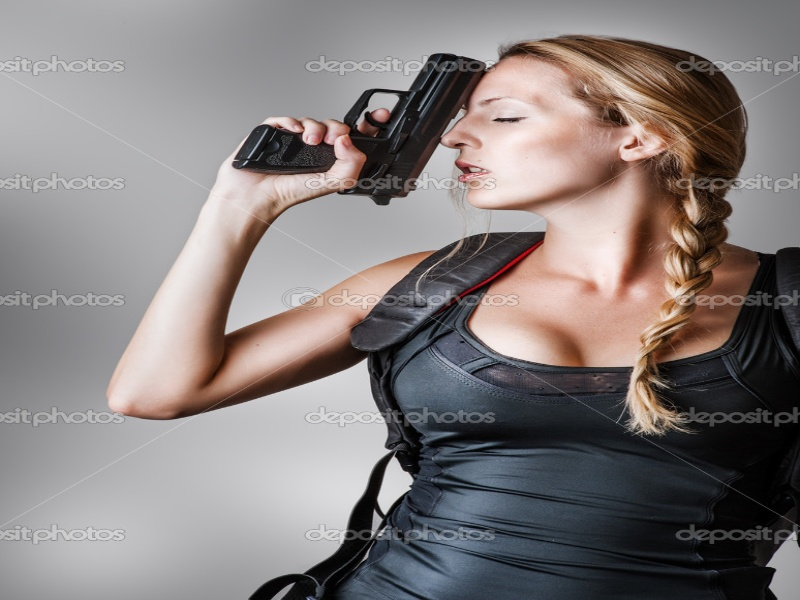gun: (232, 49, 483, 208)
